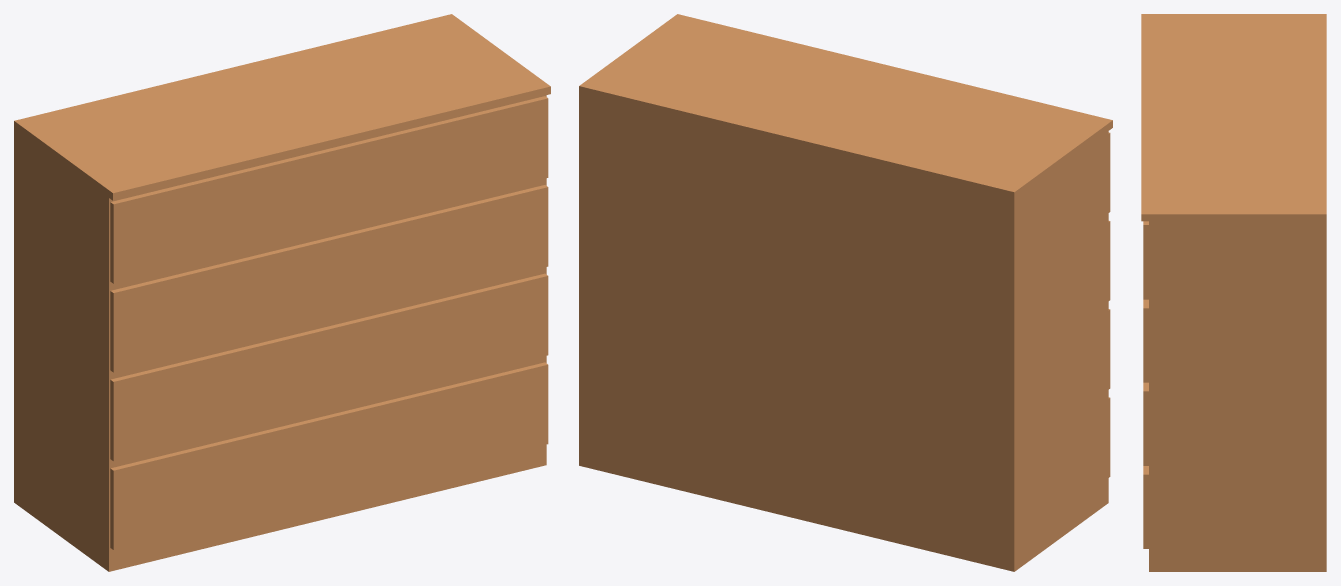
Rendered from dresser.dae.
The picture shows the model from 3 angles, left to right: view 1: azimuth 30°, elevation 25°; view 2: azimuth 150°, elevation 25°; view 3: azimuth 270°, elevation 25°; orthographic projection. The views are drawn at different scales.
Parts seen in each view (by area): view 1: Dresser; view 2: Dresser; view 3: Dresser.
Boxes of the visible parts, x1,y1,x2,y2 form: Dresser: (14, 14, 550, 571); Dresser: (579, 14, 1112, 571); Dresser: (1141, 14, 1326, 571).
Size of the model in its own units: 1.2 by 0.47 by 1.
